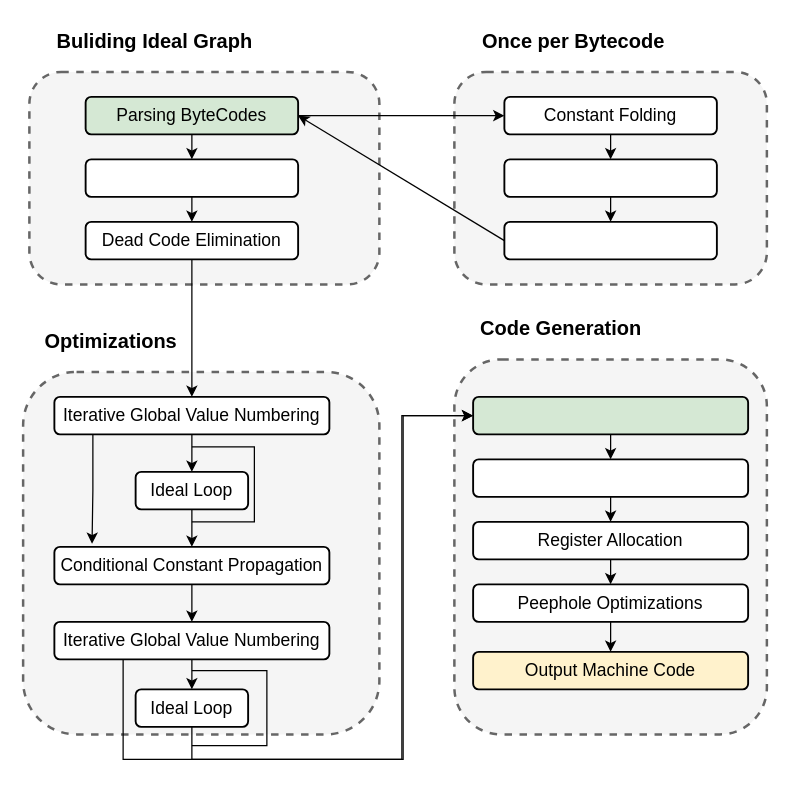
Image size: 789x791. Some labels were removed from this diagram. The centre of each missing label's shape, as x and y in pixels:
Build Control Flow Graph: [610,477]
Build Exits: [191,177]
Generate MachNode Graph: [610,415]
Global Value Numbering: [610,240]
Identity: [610,177]
